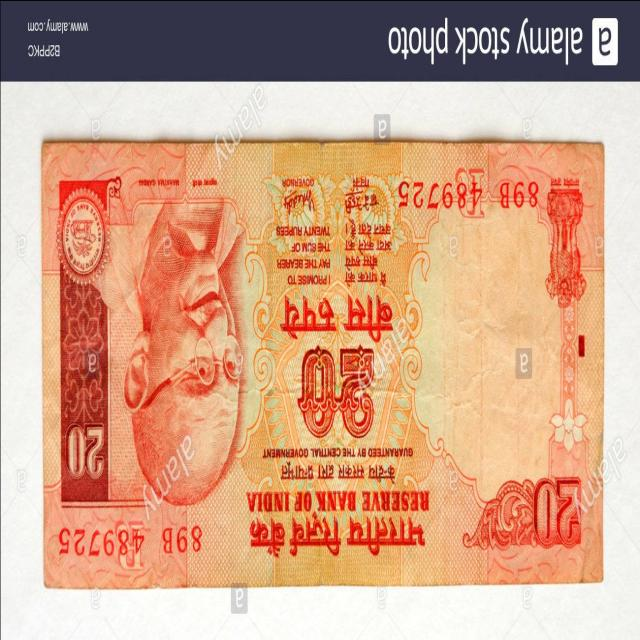20IndianRupees: (43, 143, 601, 589)
